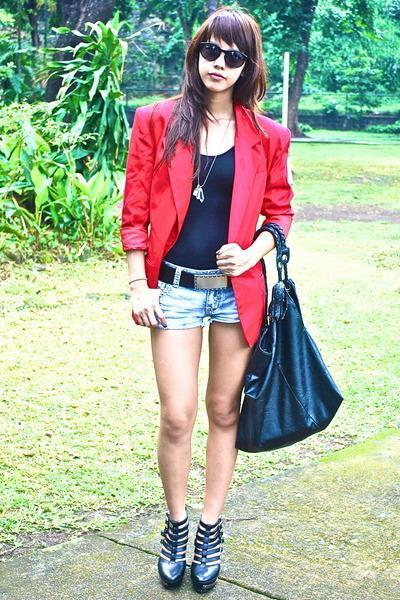bag: (233, 221, 343, 452)
jacket: (121, 95, 307, 347)
shirt: (164, 142, 204, 251)
shoe: (156, 513, 223, 587)
shorts: (156, 268, 239, 347)
sunglass: (222, 48, 251, 76)
